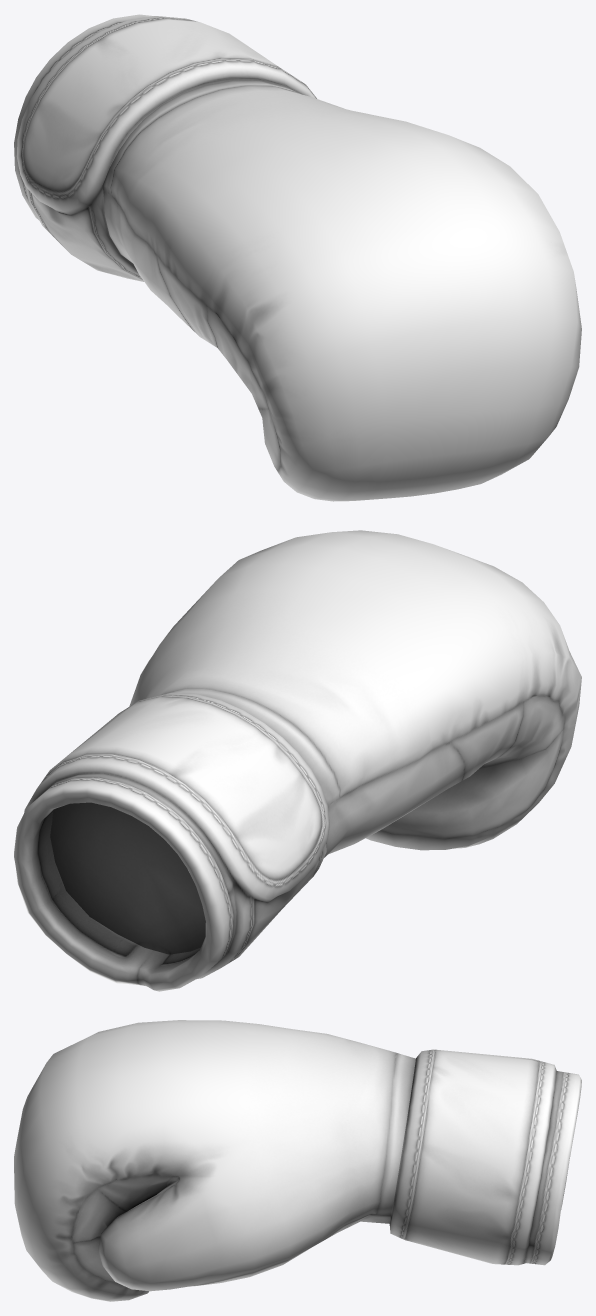
Rendered from Madman_Mitt.fbx.
3 views of the same model, one above another, from view 1: azimuth 30°, elevation 25°; view 2: azimuth 150°, elevation 25°; view 3: azimuth 270°, elevation 25° (orthographic). The views are drawn at different scales.
Parts seen in each view (by area): view 1: Madman_Mitt; view 2: Madman_Mitt; view 3: Madman_Mitt.
Part boxes in pixels (bbox=[...]): Madman_Mitt: bbox=[14, 14, 581, 501]; Madman_Mitt: bbox=[14, 530, 581, 991]; Madman_Mitt: bbox=[14, 1020, 581, 1301].
Bounding box in the file's own units: 16.44 × 13.54 × 29.09.
